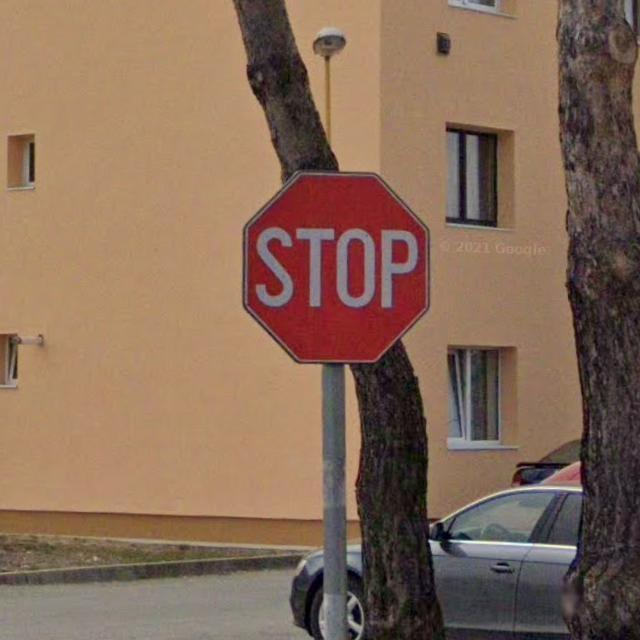prio_stop: (241, 174, 430, 368)
